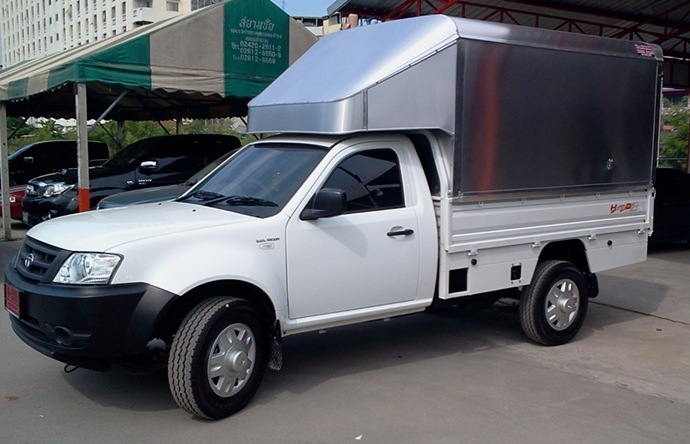pickup: (4, 128, 659, 420)
